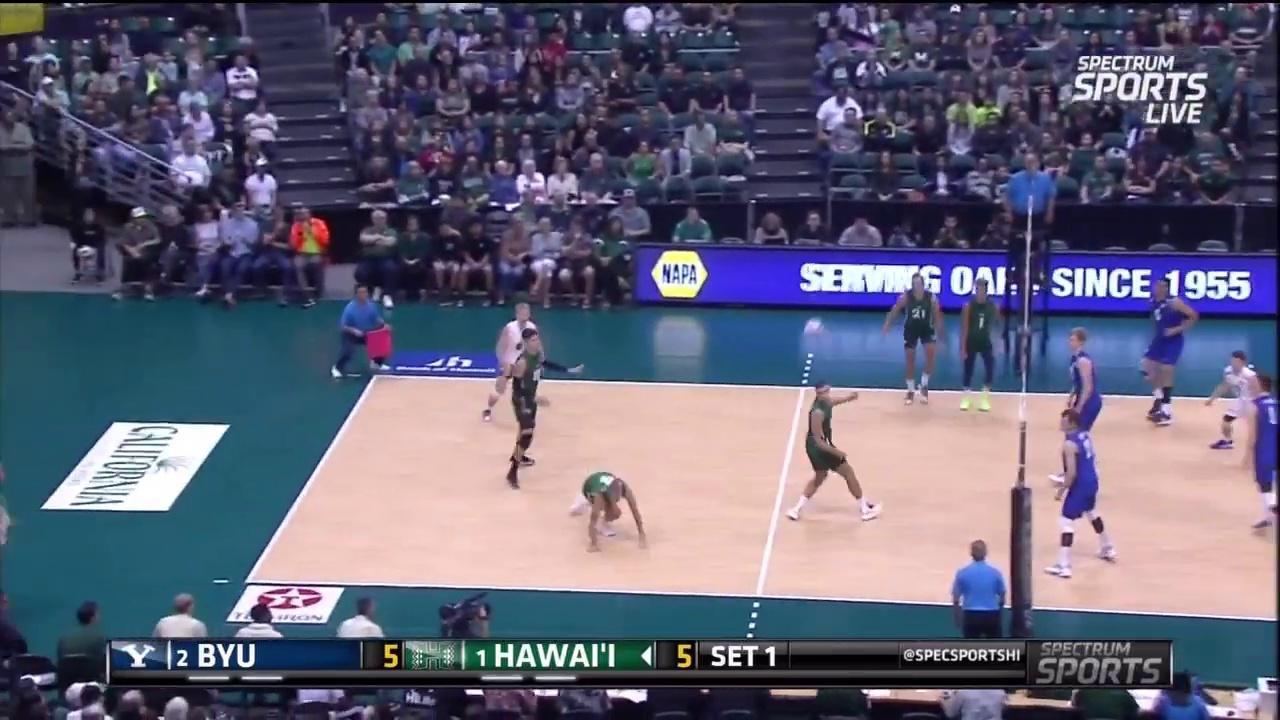player: (785, 379, 885, 519), (1047, 409, 1114, 574), (1053, 324, 1109, 493), (499, 323, 553, 492), (487, 295, 549, 421), (885, 270, 942, 402), (954, 270, 1004, 417), (1143, 280, 1192, 423), (571, 471, 649, 552), (1211, 346, 1265, 454), (1247, 371, 1280, 537)
refree: (333, 278, 395, 377), (1006, 147, 1056, 260), (955, 536, 1008, 639)
